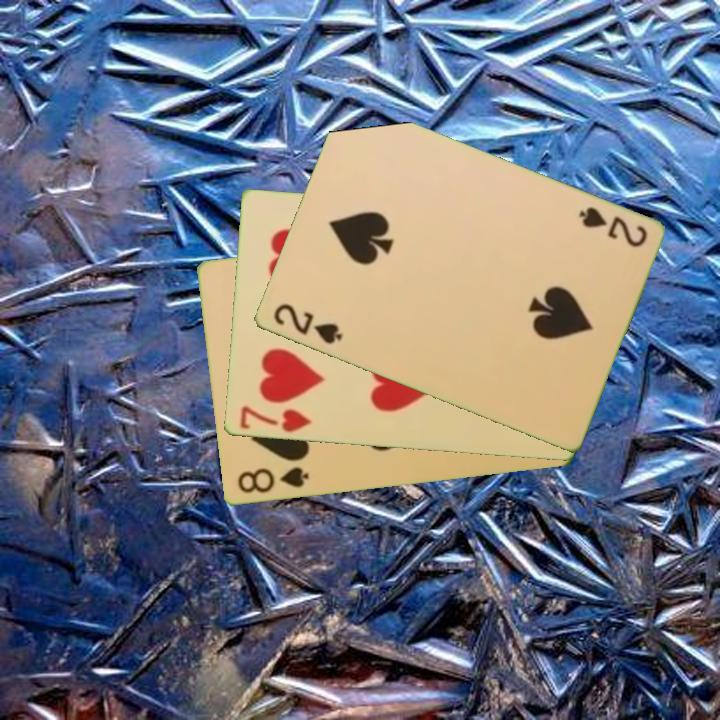2s: (269, 300, 345, 348), (574, 203, 650, 251)
7h: (236, 402, 314, 436)
8s: (234, 464, 311, 497)
